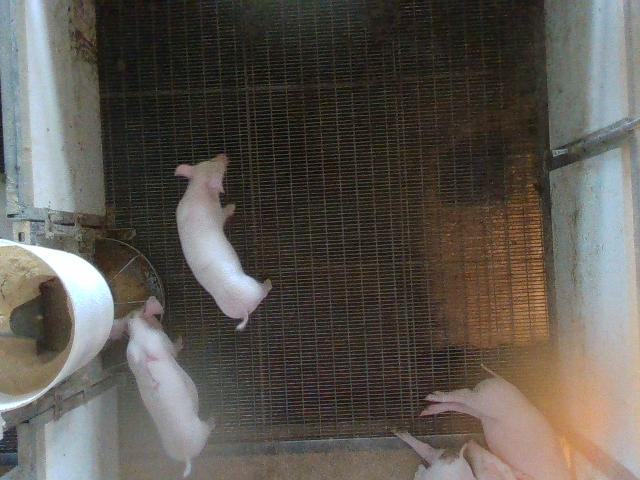pig-5: (110, 296, 215, 477)
